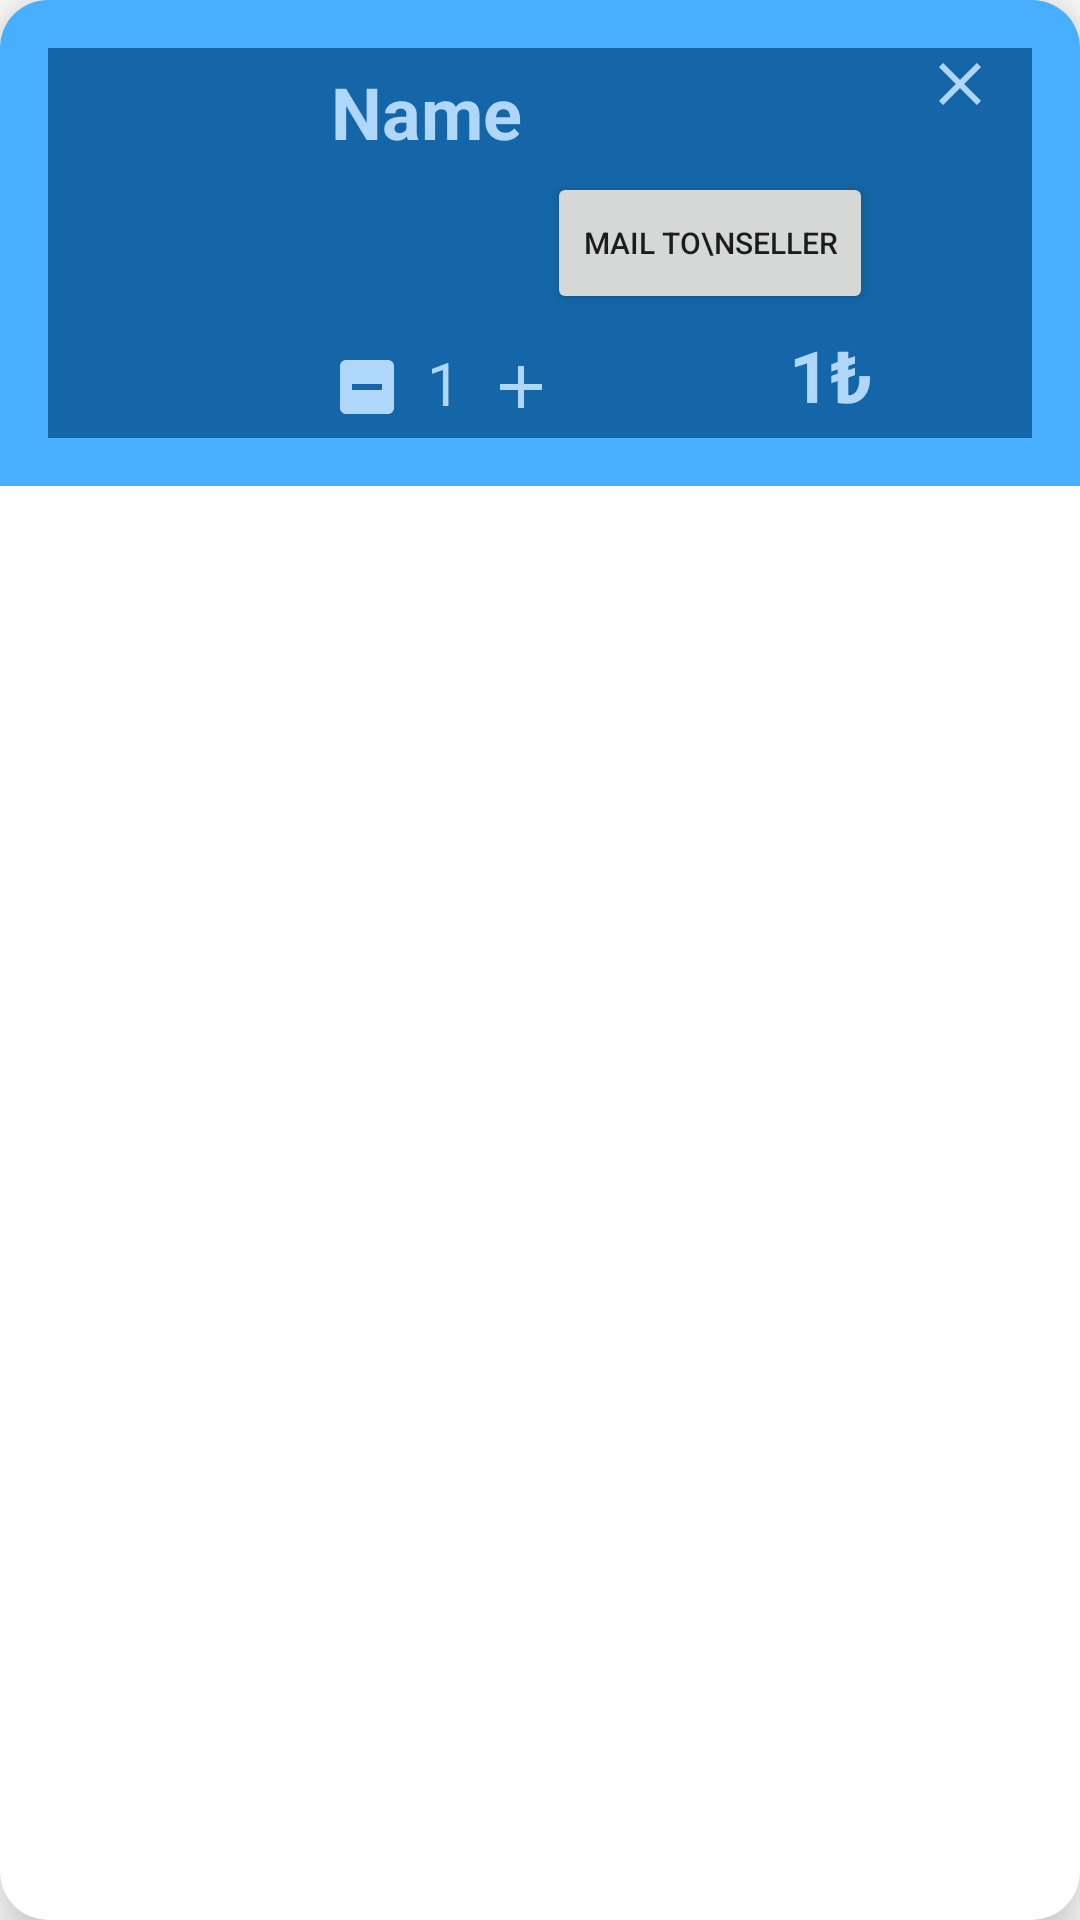

Icons on this 1080×1920 Android screen, each with its box as (x1, y1, x2, y2):
add: (500, 366, 542, 408)
clear: (939, 63, 981, 105)
indeterminate check box: (340, 360, 394, 414)
